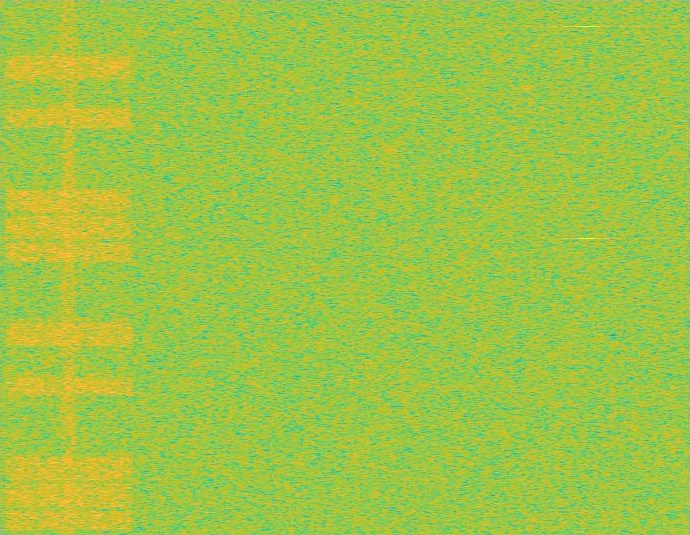DSSS: (60, 0, 78, 534)
LTE: (0, 0, 138, 534)
Radar: (581, 0, 595, 534)
